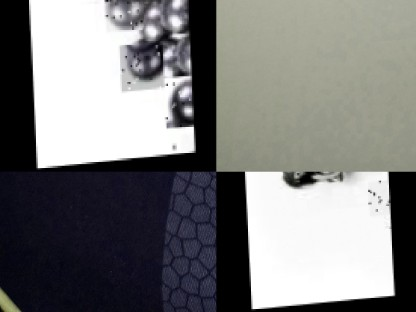ironball: (118, 42, 163, 92), (163, 77, 192, 130), (104, 0, 143, 32), (137, 0, 168, 1)
